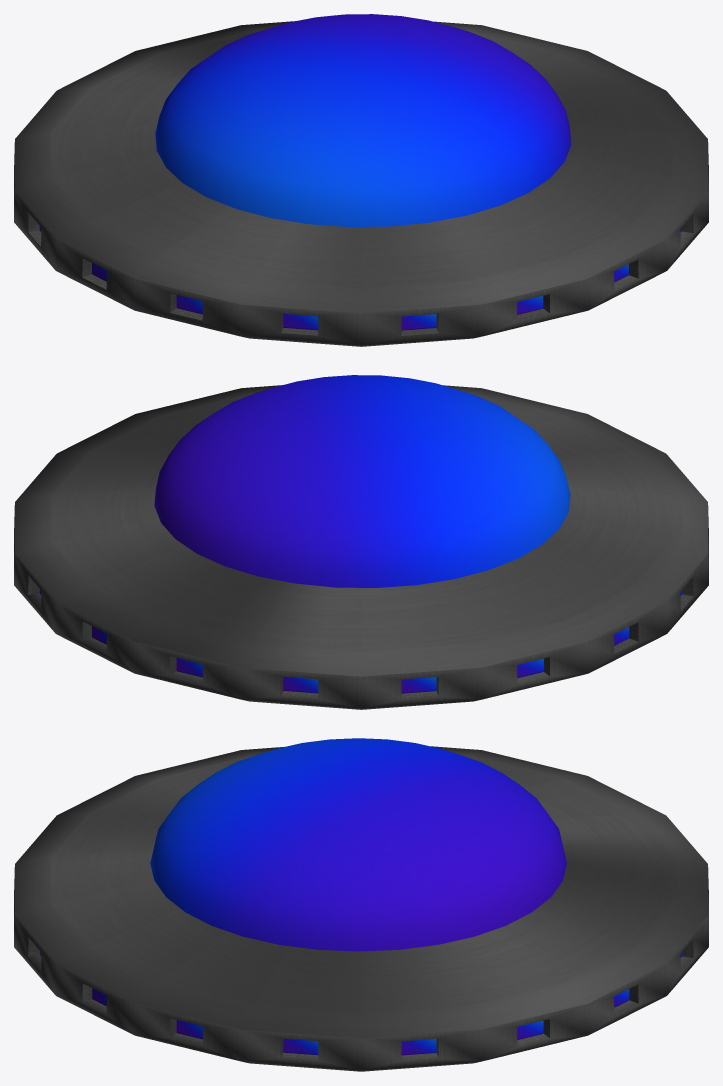
File: UFOShip.FBX
3 renders of one model, top to bottom at view 1: azimuth 30°, elevation 25°; view 2: azimuth 150°, elevation 25°; view 3: azimuth 270°, elevation 25°, orthographic.
Parts seen in each view (by area): view 1: Cylinder001, Sphere001, Box003, Box004; view 2: Cylinder001, Sphere001, Box009, Box010; view 3: Cylinder001, Sphere001, Box015, Box016.
Part boxes in pixels (x1,y1,x2,y2): Cylinder001: (14, 21, 708, 346); Sphere001: (155, 14, 571, 226); Box003: (401, 314, 436, 330); Box004: (283, 313, 318, 330); Cylinder001: (14, 385, 708, 709); Sphere001: (154, 375, 570, 587); Box009: (401, 677, 436, 693); Box010: (283, 677, 318, 693); Cylinder001: (14, 746, 708, 1071); Sphere001: (150, 738, 566, 951); Box015: (401, 1039, 436, 1055); Box016: (283, 1038, 318, 1055).
Bounding box in the file's own units: 265 × 74.13 × 261.
2 materials, 2 textured.
